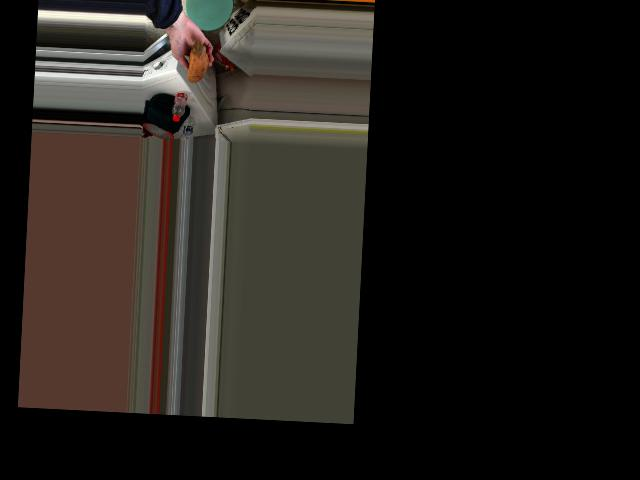sweet_potato: (187, 44, 207, 93)
